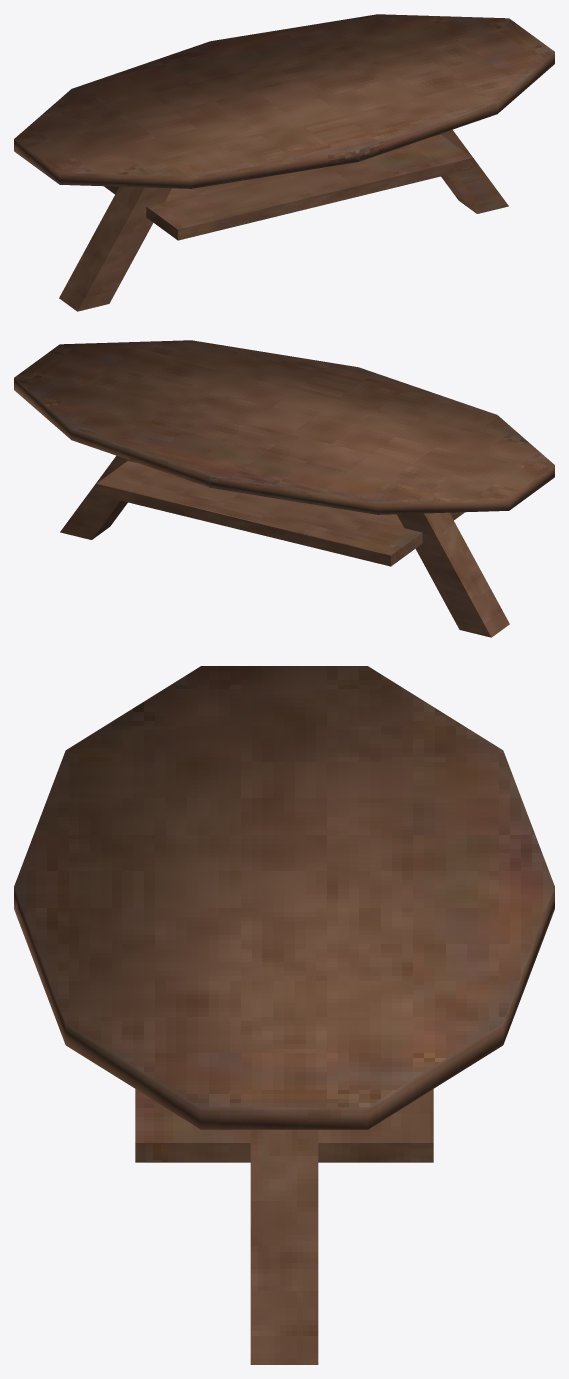
Rendered from CoffeTable.glb.
3 views of the same model, one above another, from view 1: azimuth 30°, elevation 25°; view 2: azimuth 150°, elevation 25°; view 3: azimuth 270°, elevation 25° (orthographic). The views are drawn at different scales.
Parts seen in each view (by area): view 1: Cylinder; view 2: Cylinder; view 3: Cylinder.
Boxes of the visible parts, x1,y1,x2,y2 form: Cylinder: (14, 14, 554, 311); Cylinder: (14, 340, 554, 637); Cylinder: (14, 666, 554, 1364).
Size of what is drawn, in the model's own units: 1.9 by 0.5753 by 0.9858.
Materials: 1 (1 with a texture image).
